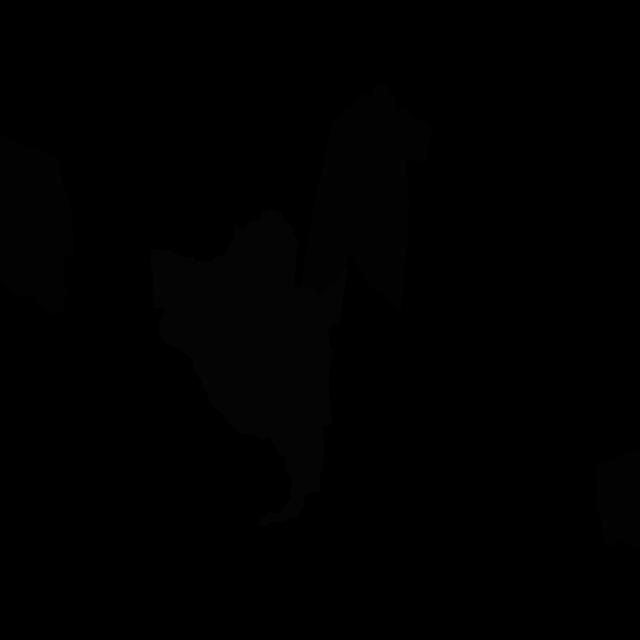cardboard: (301, 84, 432, 317), (0, 134, 74, 314), (594, 448, 640, 550)
soft_plastic: (150, 209, 348, 526)
